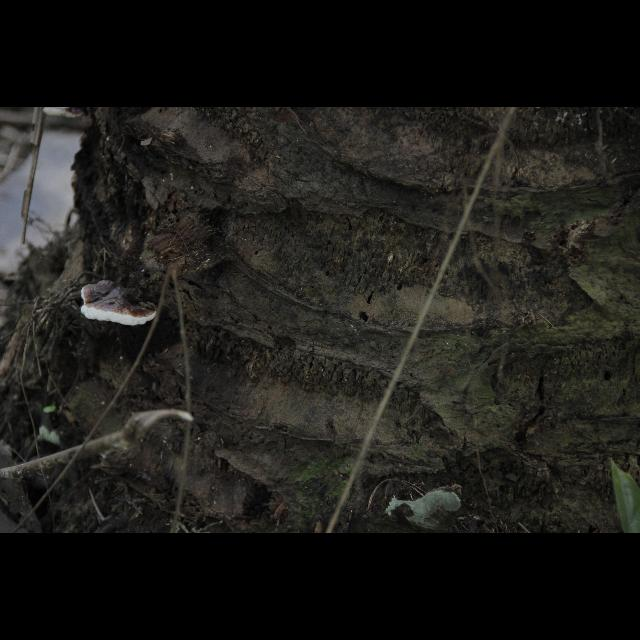ganoderma: (81, 279, 159, 327)
